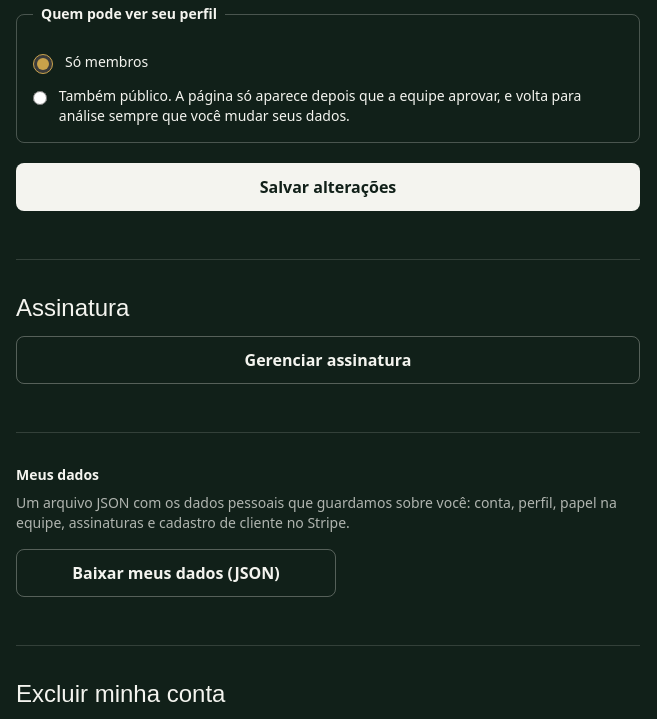
Test case: bloco Assinatura › falha ao abrir o portal aparece na tela
This screenshot has width=657, height=719.
(page scrolled)
Click the button "Gerenciar assinatura" at (328, 360), box [16, 336, 640, 384]
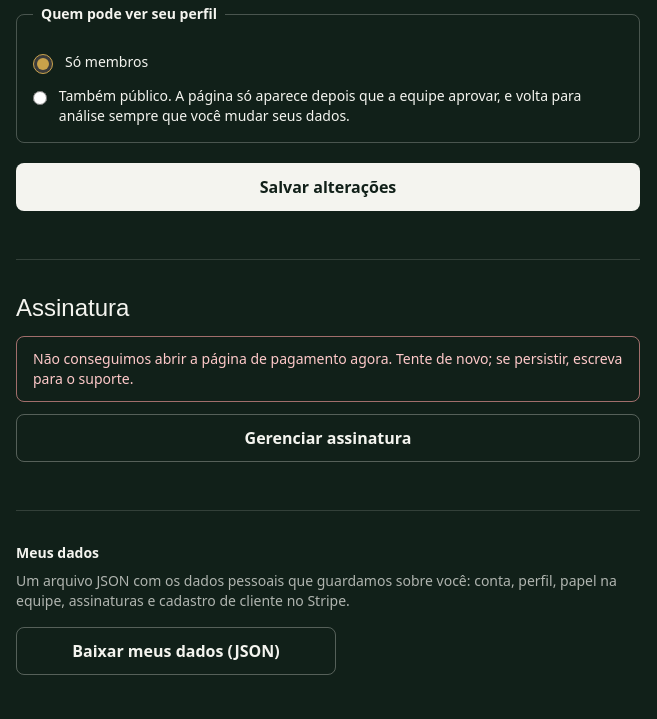
Expected: the message shows "Não conseguimos abrir", [33, 349, 622, 388]
